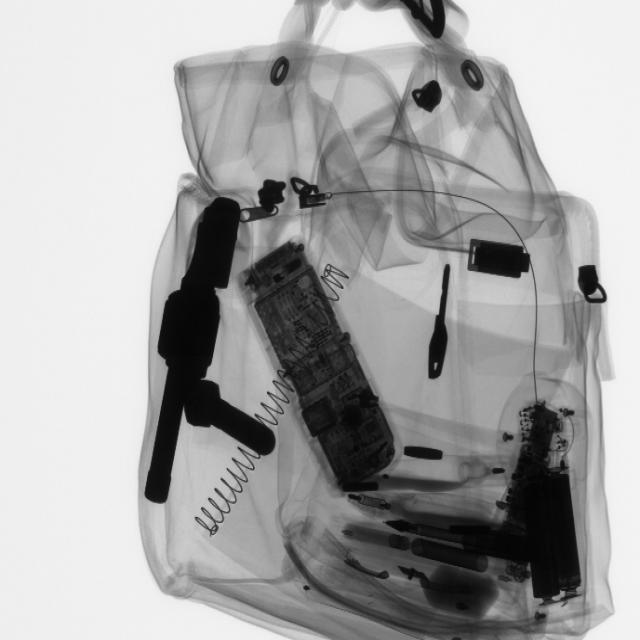GUN: (138, 194, 243, 513)
